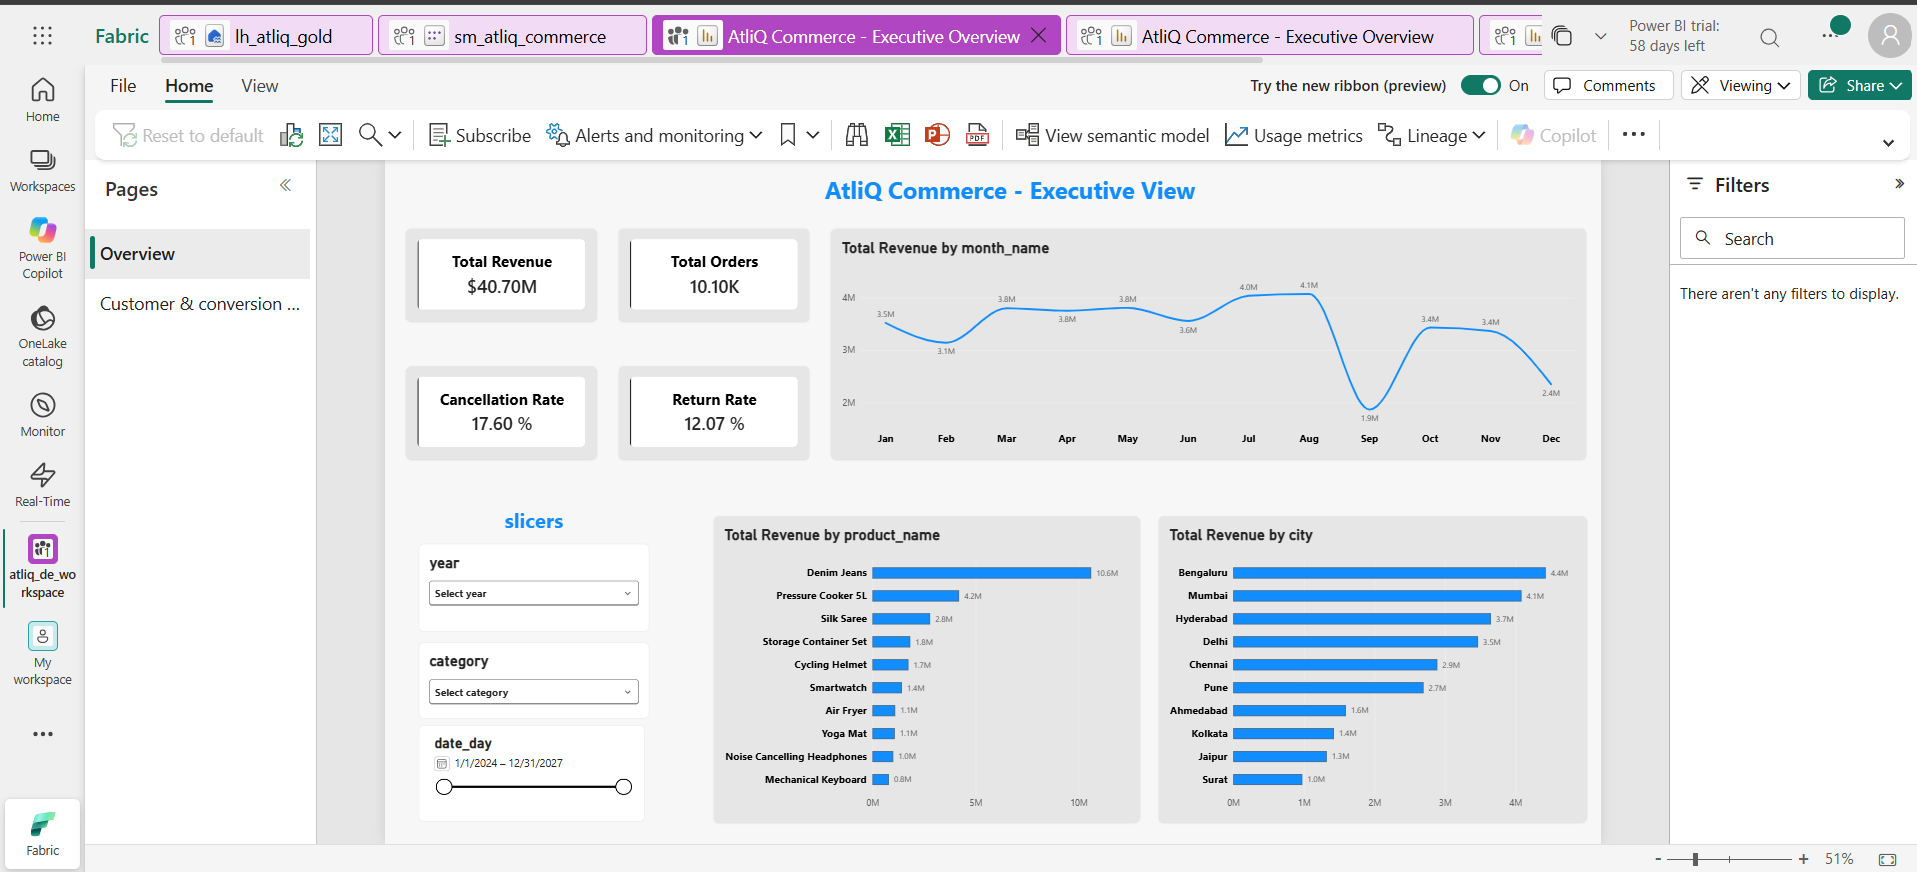

This screenshot's page, from the dashboard's own definition file:
{"tool":"powerbi","page":{"name":"Overview","canvas":[1920,1080],"ordinal":0},"visuals":[{"type":"cardVisual","fields":{"Data":["_Measures.Total Revenue"]},"box":[33.5,107.7,301.1,146.3],"z":0},{"type":"lineChart","fields":{"Category":["dim_date.month_name"],"Y":["_Measures.Total Revenue"]},"box":[703.7,107.7,1192.1,363.8],"z":1000},{"type":"clusteredBarChart","fields":{"Category":["dim_product.product_name"],"Y":["_Measures.Total Revenue"]},"box":[519.4,562.5,672.6,483.5],"z":2000},{"type":"clusteredBarChart","fields":{"Category":["dim_customers.city"],"Y":["_Measures.Total Revenue"]},"box":[1220.8,562.5,675,483.5],"z":3000},{"type":"textbox","box":[52.7,21.5,1867.1,62.2],"z":4000},{"type":"cardVisual","fields":{"Data":["_Measures.Total Orders"]},"box":[368.6,107.7,301.1,146.3],"z":5000},{"type":"cardVisual","fields":{"Data":["_Measures.Cancellation Rate"]},"box":[33.5,325.5,301.1,146.3],"z":6000},{"type":"cardVisual","fields":{"Data":["_Measures.Return Rate"]},"box":[368.6,325.5,301.1,146.3],"z":7000},{"type":"slicer","fields":{"Values":["dim_product.category"]},"box":[53.5,761.6,362.3,105],"z":8000},{"type":"slicer","fields":{"Values":["dim_date.date_day"]},"box":[52.7,892.8,356.7,153.2],"z":10000},{"type":"textbox","box":[52.7,545.8,363.8,59.8],"z":11000},{"type":"slicer","fields":{"Values":["dim_date.year"]},"box":[53.5,590.7,364.3,105],"z":11001}]}

Visuals, with their boxes on the page's 1920x1080 design canvas (x1, y1, x2, y2). These are canvas units, not pixel positions in the 1917x872 screenshot, which may show the page scaled, cropped or inside an application window:
cardVisual - _Measures.Total Revenue: locate(34, 108, 335, 254)
lineChart - dim_date.month_name x _Measures.Total Revenue: locate(704, 108, 1896, 472)
clusteredBarChart - dim_product.product_name x _Measures.Total Revenue: locate(519, 562, 1192, 1046)
clusteredBarChart - dim_customers.city x _Measures.Total Revenue: locate(1221, 562, 1896, 1046)
textbox: locate(53, 22, 1920, 84)
cardVisual - _Measures.Total Orders: locate(369, 108, 670, 254)
cardVisual - _Measures.Cancellation Rate: locate(34, 326, 335, 472)
cardVisual - _Measures.Return Rate: locate(369, 326, 670, 472)
slicer - dim_product.category: locate(54, 762, 416, 867)
slicer - dim_date.date_day: locate(53, 893, 409, 1046)
textbox: locate(53, 546, 416, 606)
slicer - dim_date.year: locate(54, 591, 418, 696)
